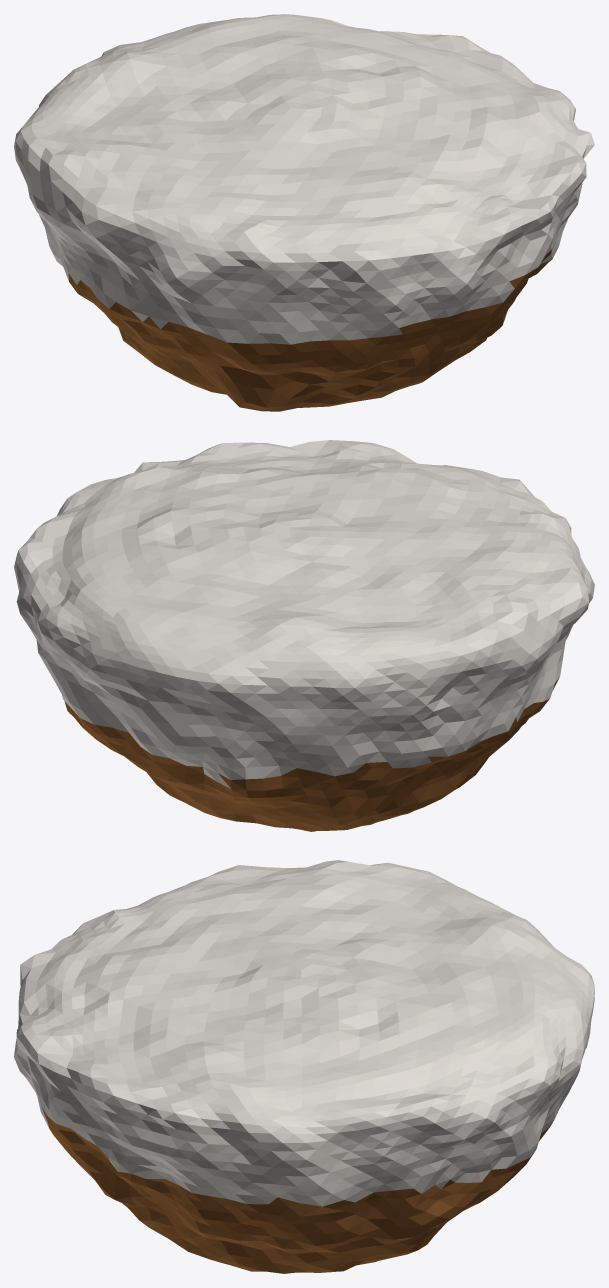
File: island_3.fbx
3 views of the same model, one above another, from view 1: azimuth 30°, elevation 25°; view 2: azimuth 150°, elevation 25°; view 3: azimuth 270°, elevation 25° (orthographic). The views are drawn at different scales.
Parts seen in each view (by area): view 1: Icosphere.053; view 2: Icosphere.053; view 3: Icosphere.053.
Part boxes in pixels (x1,y1,x2,y2): Icosphere.053: [14, 14, 594, 411]; Icosphere.053: [14, 440, 594, 831]; Icosphere.053: [14, 860, 594, 1273].
Size of the model in its own units: 4853 by 2549 by 4773.
